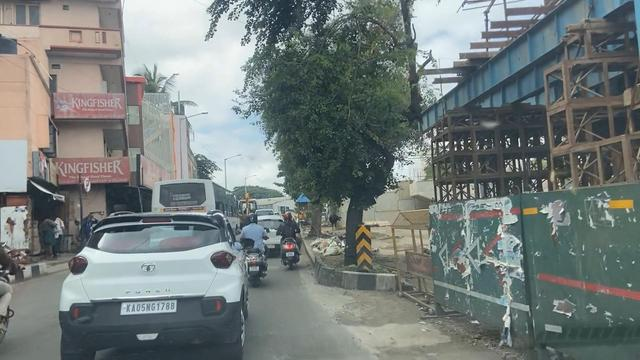LMV: (69, 231, 226, 353), (240, 212, 270, 282), (277, 210, 304, 272)
RoadDamages: (309, 291, 417, 351)
